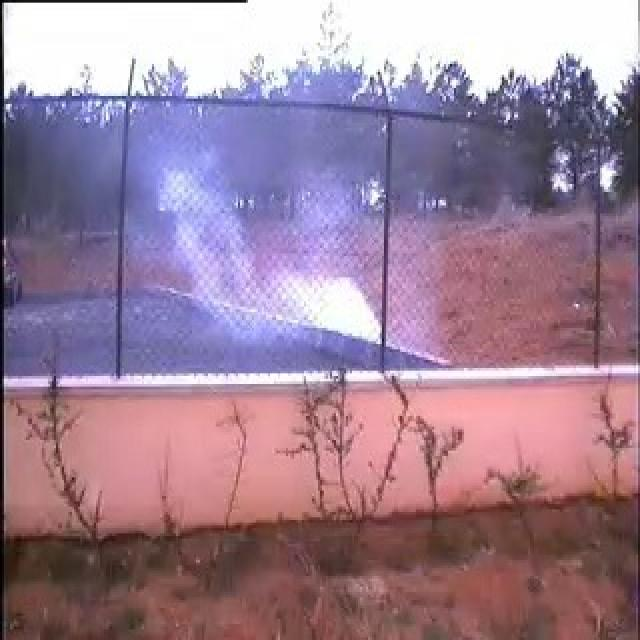smoke: (149, 118, 385, 349)
